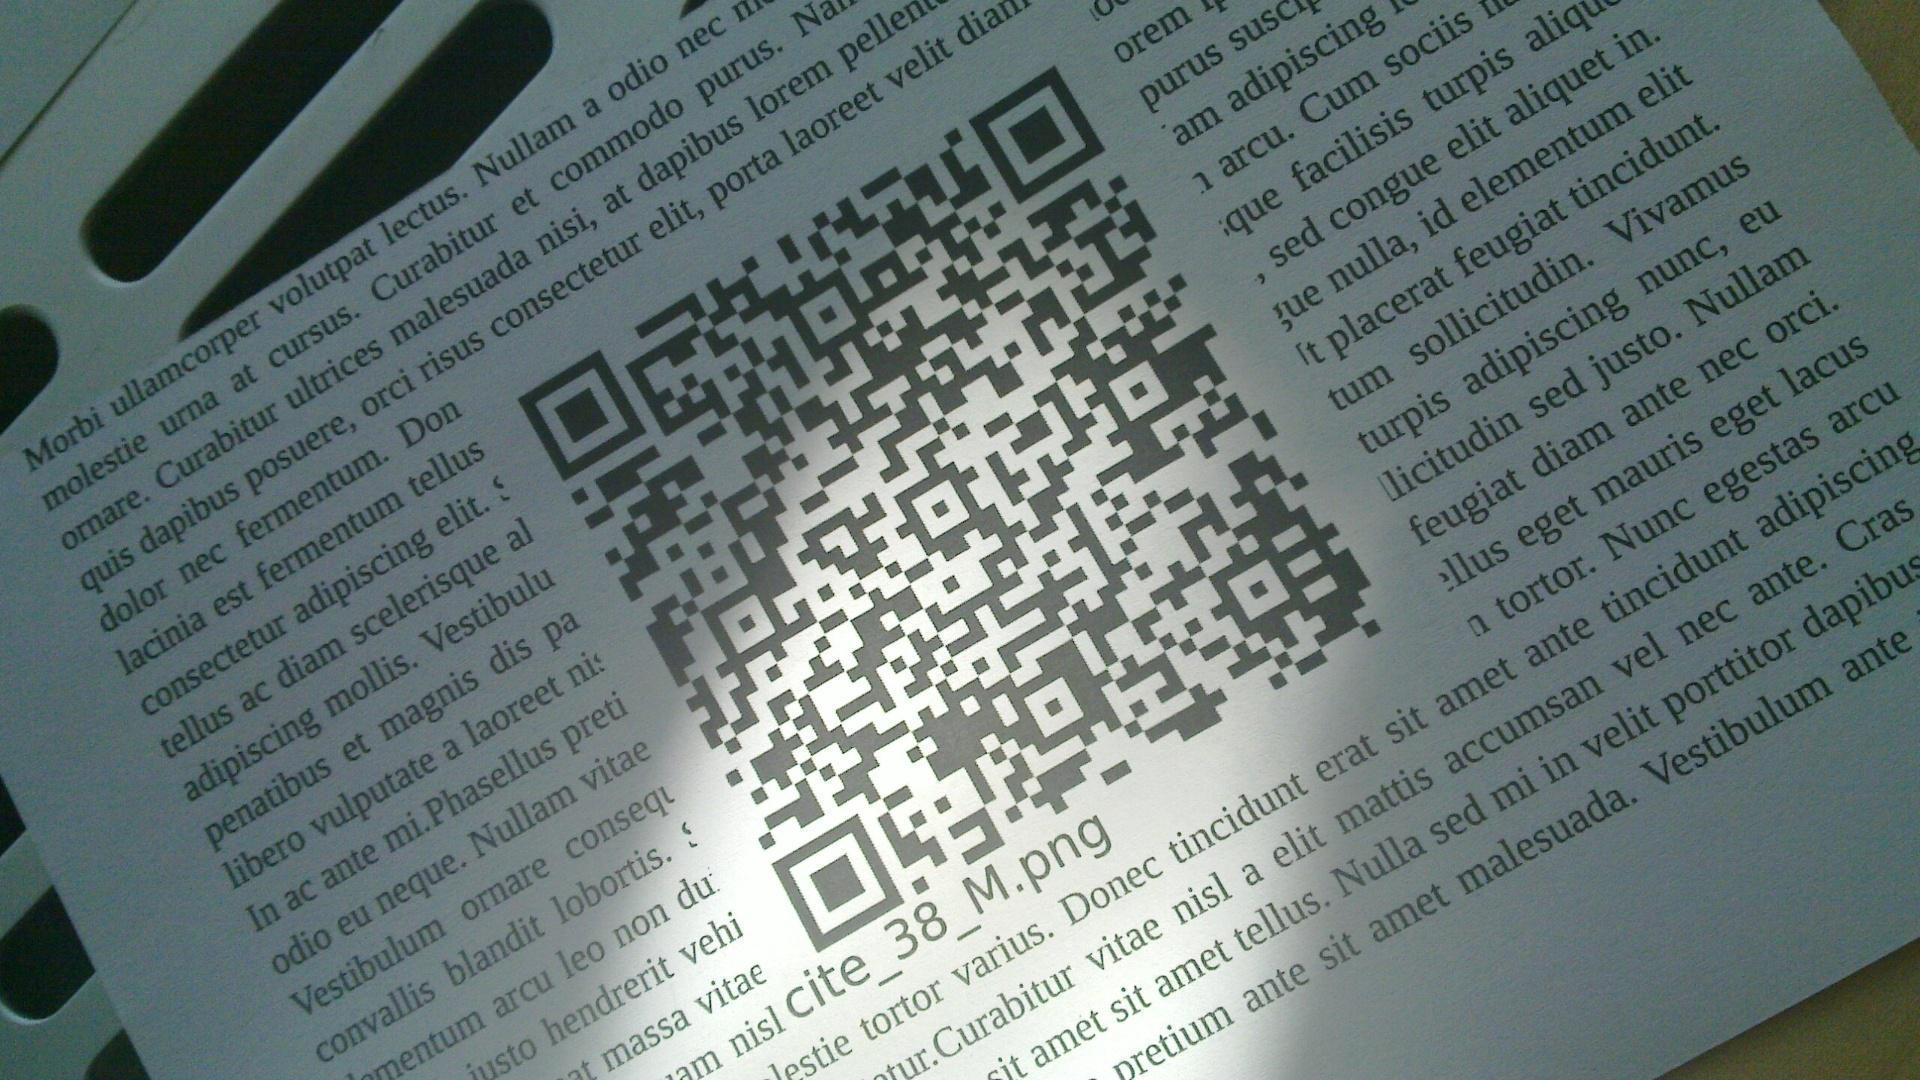qr_code: (520, 66, 1391, 953)
